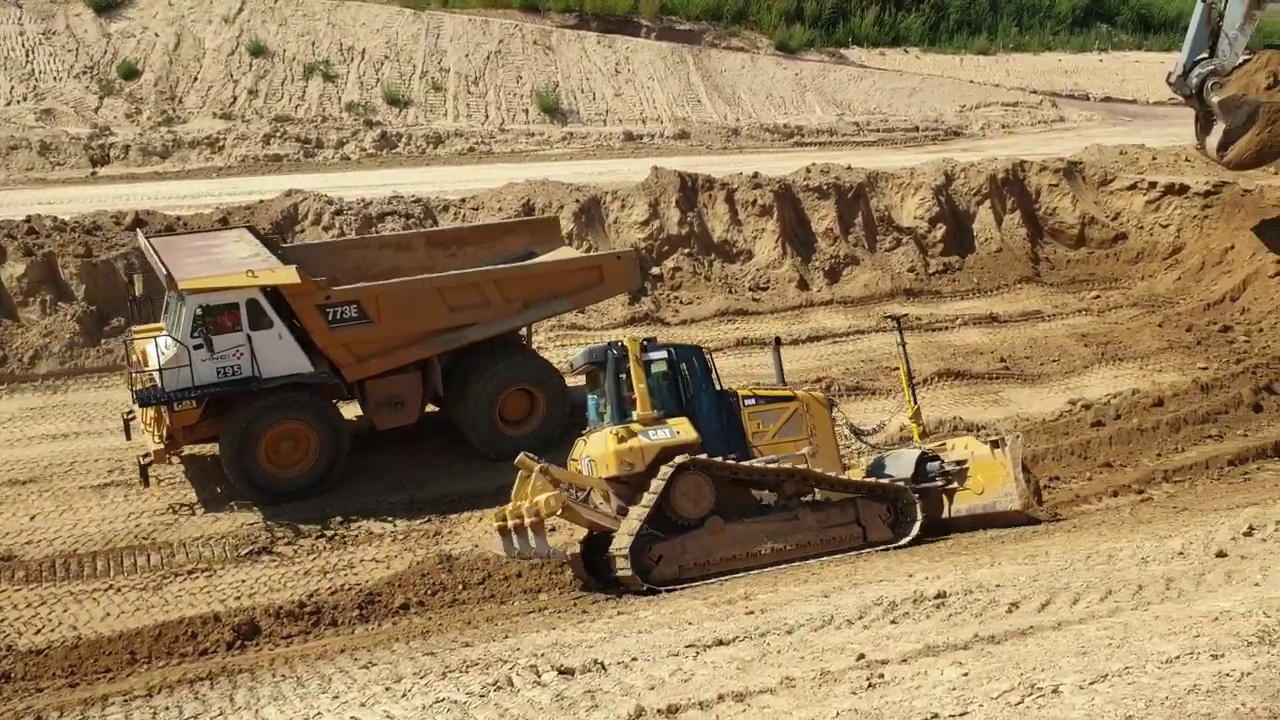bulldozer: (492, 306, 1063, 599)
excavator: (1153, 2, 1280, 172)
truck: (114, 213, 653, 510)
